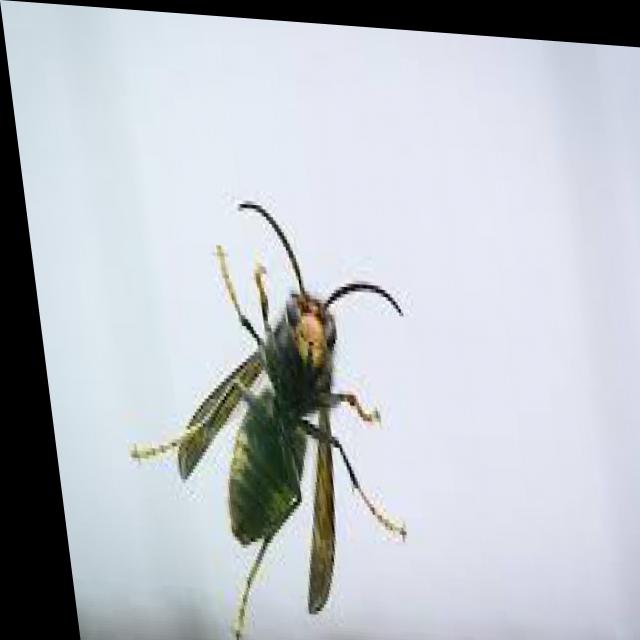Vespa Crabro: (40, 123, 499, 536)
Vespa Velutina: (85, 209, 444, 639)
